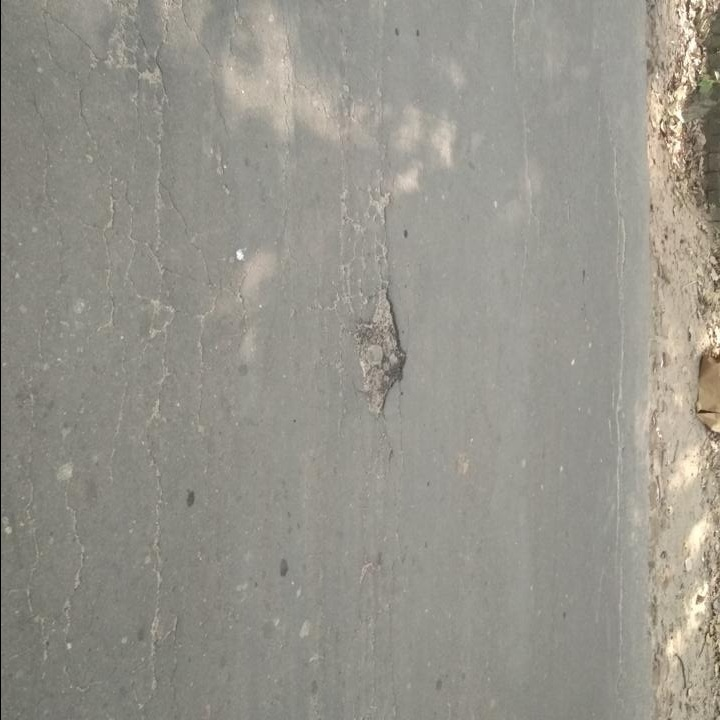pothole: (352, 281, 409, 419)
